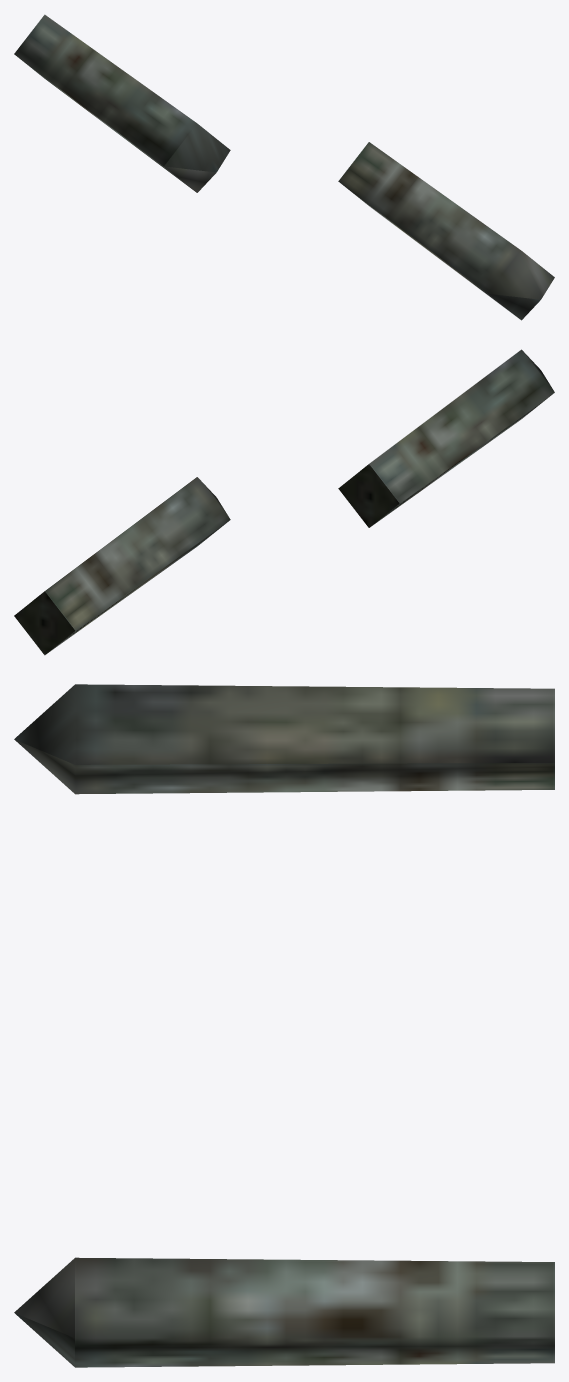
The model's file is xwing_thruster_pos_s01_l2.fbx.
3 views of the same model, one above another, from view 1: azimuth 30°, elevation 25°; view 2: azimuth 150°, elevation 25°; view 3: azimuth 270°, elevation 25° (orthographic). The views are drawn at different scales.
Visible parts, largest first — view 1: mesh_node; view 2: mesh_node; view 3: mesh_node.
Part boxes in pixels (box(x1,y1,x2,y2)): mesh_node: box(14, 14, 554, 320); mesh_node: box(14, 349, 554, 655); mesh_node: box(14, 684, 554, 1367).
Size of the model in its own units: 4.21 by 2.84 by 3.21.
1 material, 1 textured.
